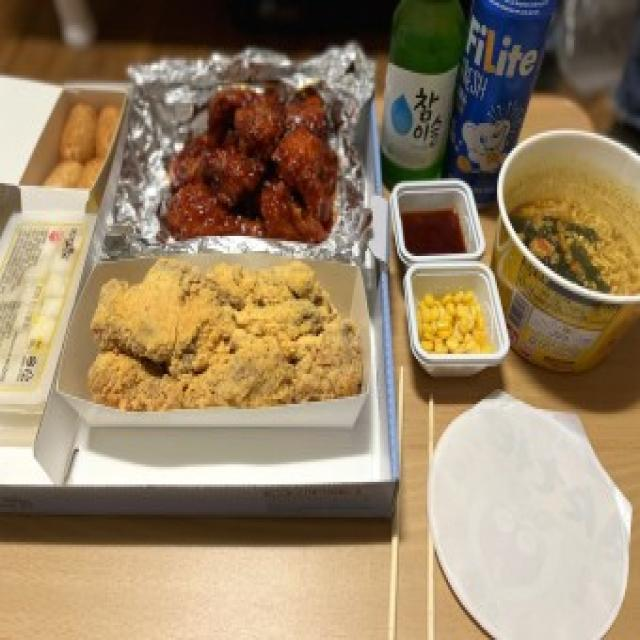Frango: (172, 76, 337, 248)
